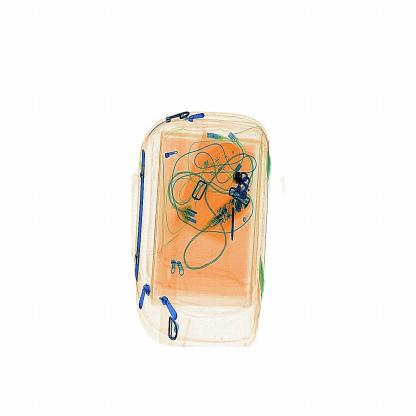scissors: (229, 162, 249, 188)
